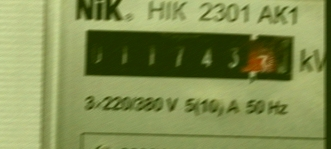0: (89, 39, 103, 66)
1: (116, 39, 130, 67), (144, 40, 157, 68)
3: (225, 44, 239, 71), (254, 54, 269, 75)
4: (199, 45, 213, 70)
7: (171, 43, 185, 68)
screen: (76, 25, 302, 89)
